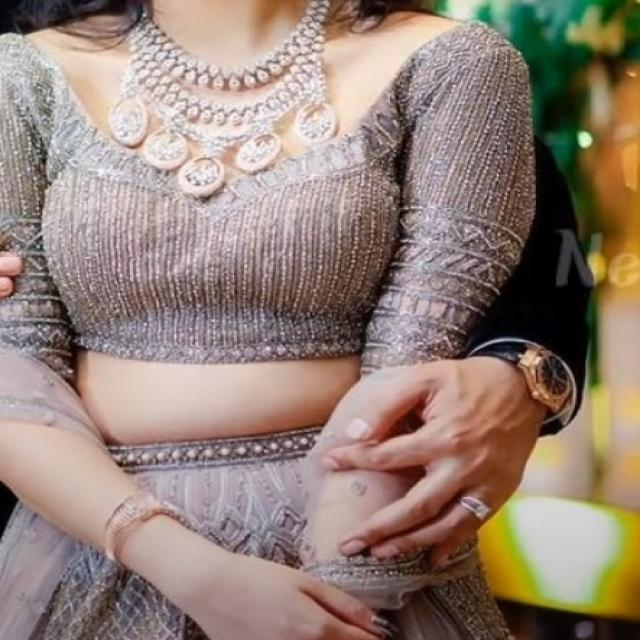Watch: (480, 338, 576, 414)
